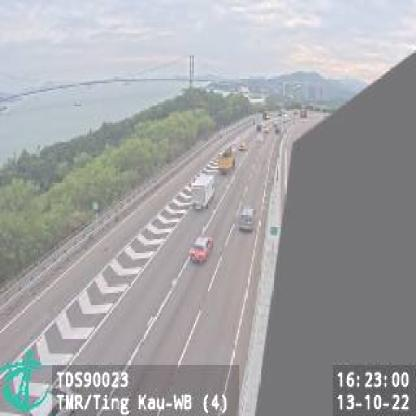Car: (189, 233, 215, 264), (239, 205, 256, 230)
Truck: (191, 173, 217, 210), (216, 147, 236, 177)
